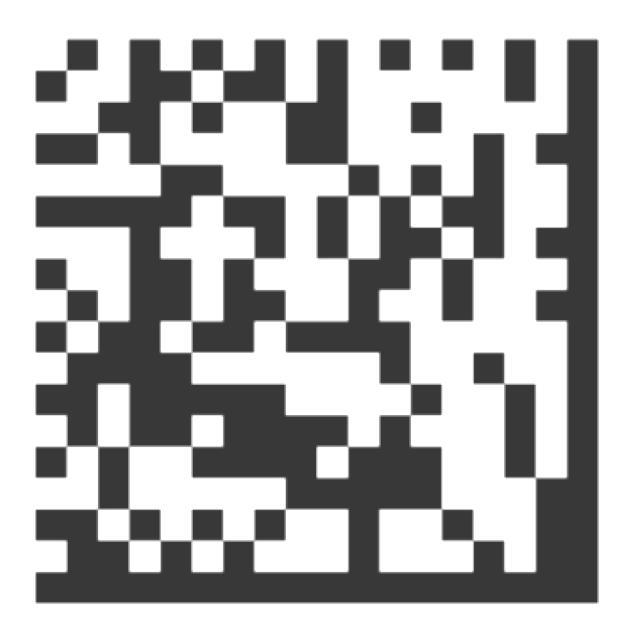Data-Matrix: (14, 20, 626, 626)
